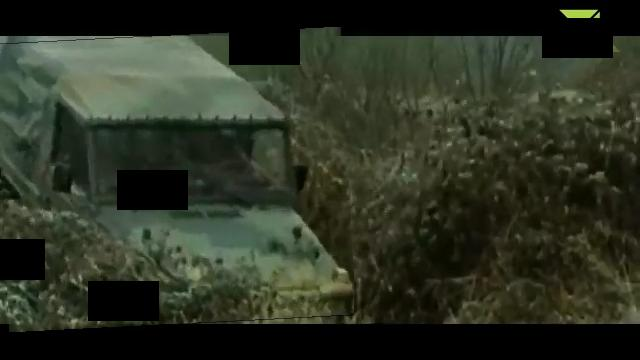MIL_HMMWV: (0, 30, 350, 329)
